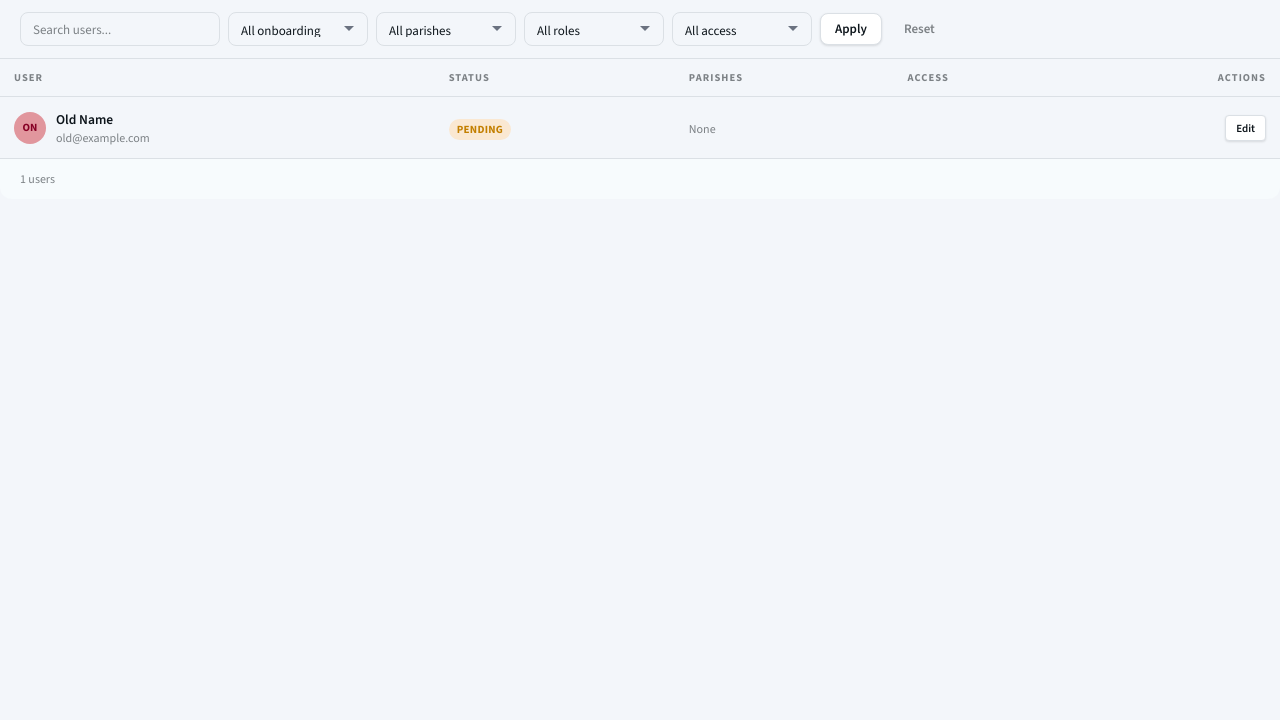
AdminUserDirectoryManager › reloads user data when access saving fails after a profile update
Click the button "Edit" at (1246, 128), box [1225,116,1266,142]
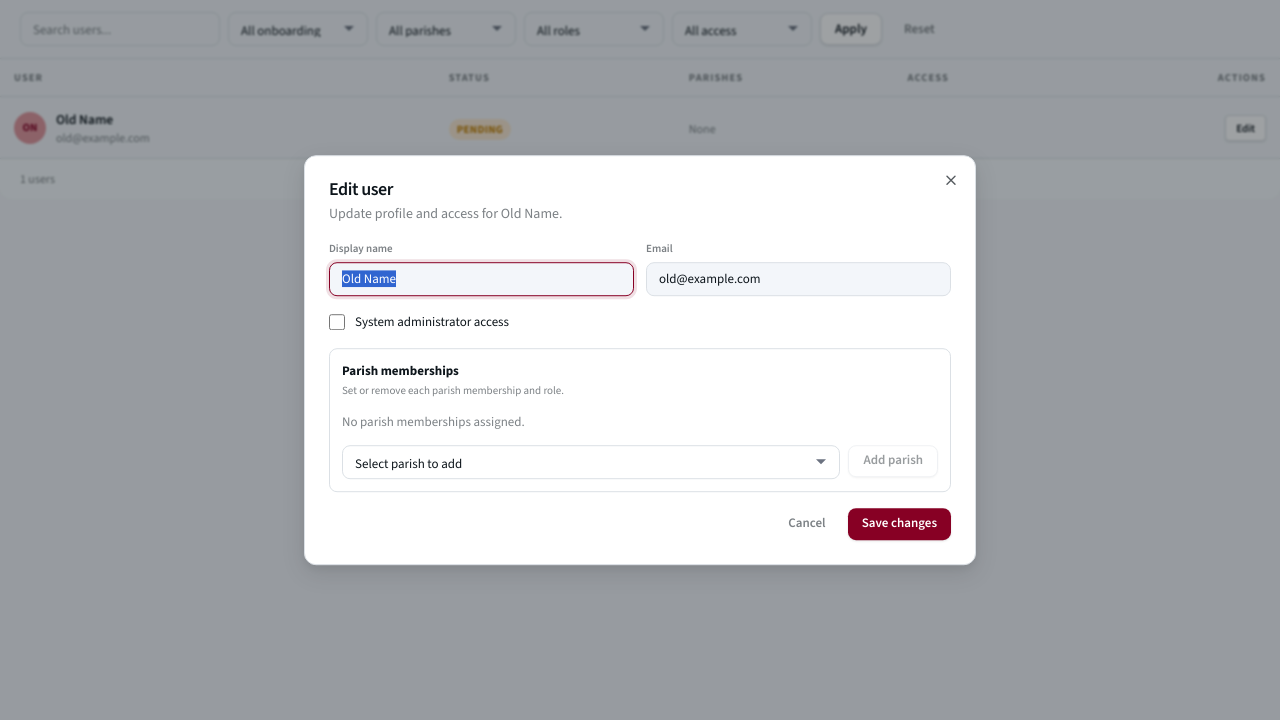
Replace the text in the field showing "Old Name" below "Display name" with "New Name" at (482, 279), box [329,262,634,296]
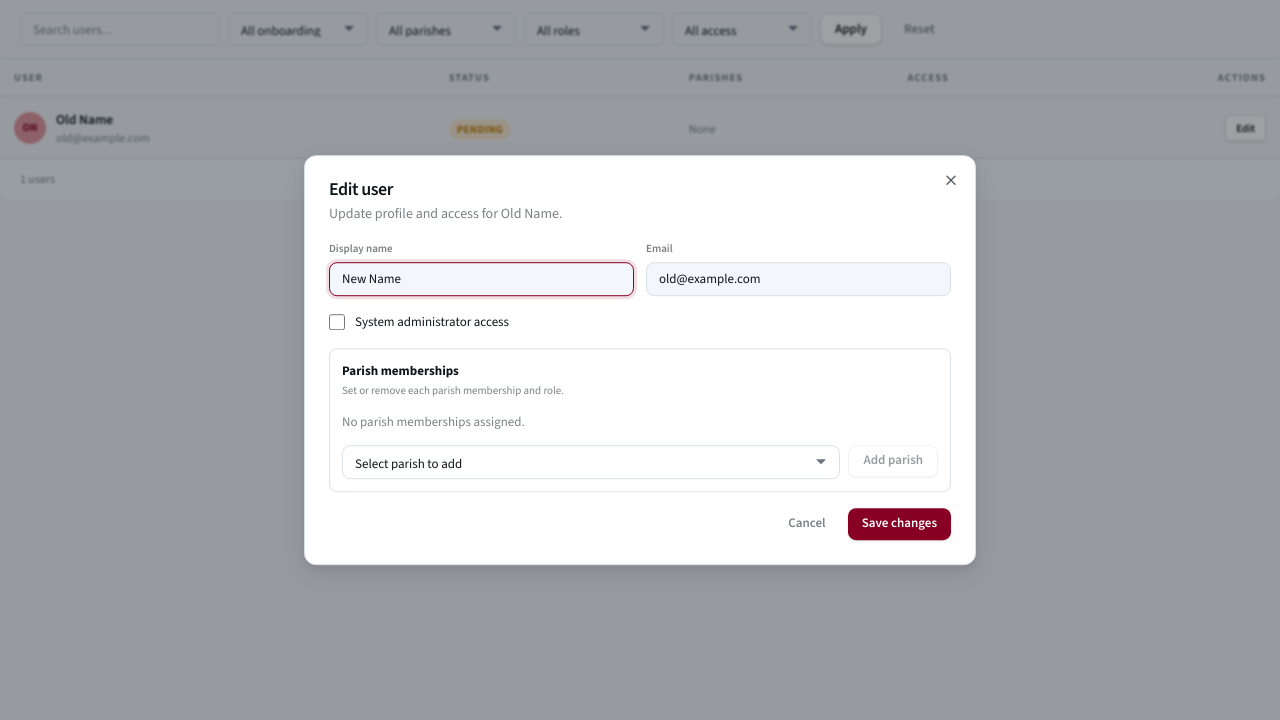
Replace the text in the field showing "old@example.com" below "Email" with "new@example.com" at (798, 279), box [646,262,951,296]
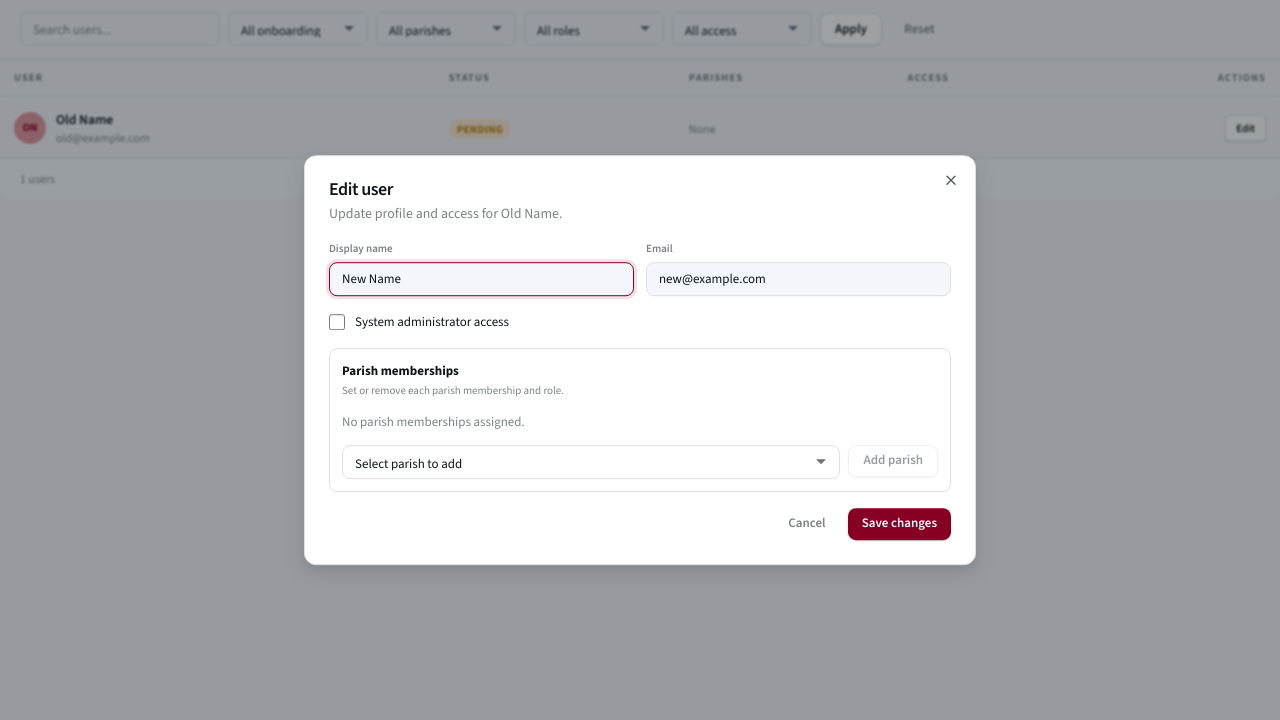
Select "St. Mark" in the dropdown showing "Select parish to add" at (591, 462), box [342,445,840,479]
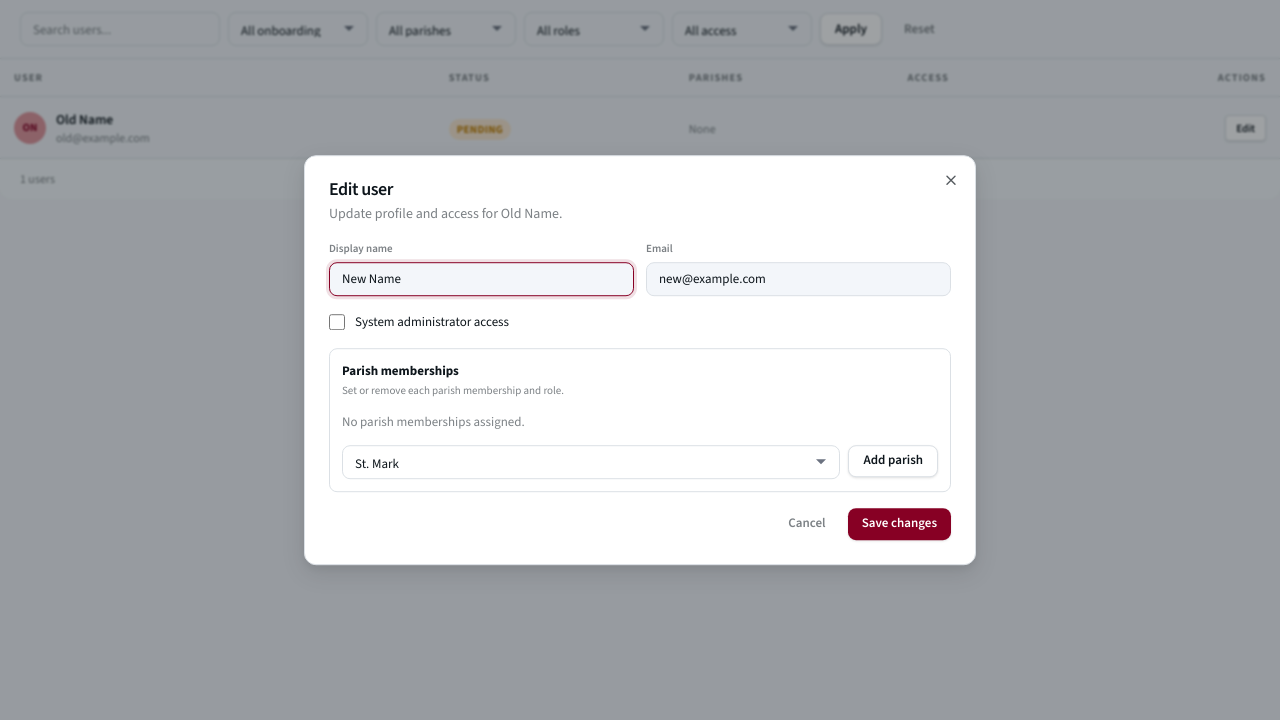
Click the button "Add parish" at (893, 461), box [848,445,938,477]
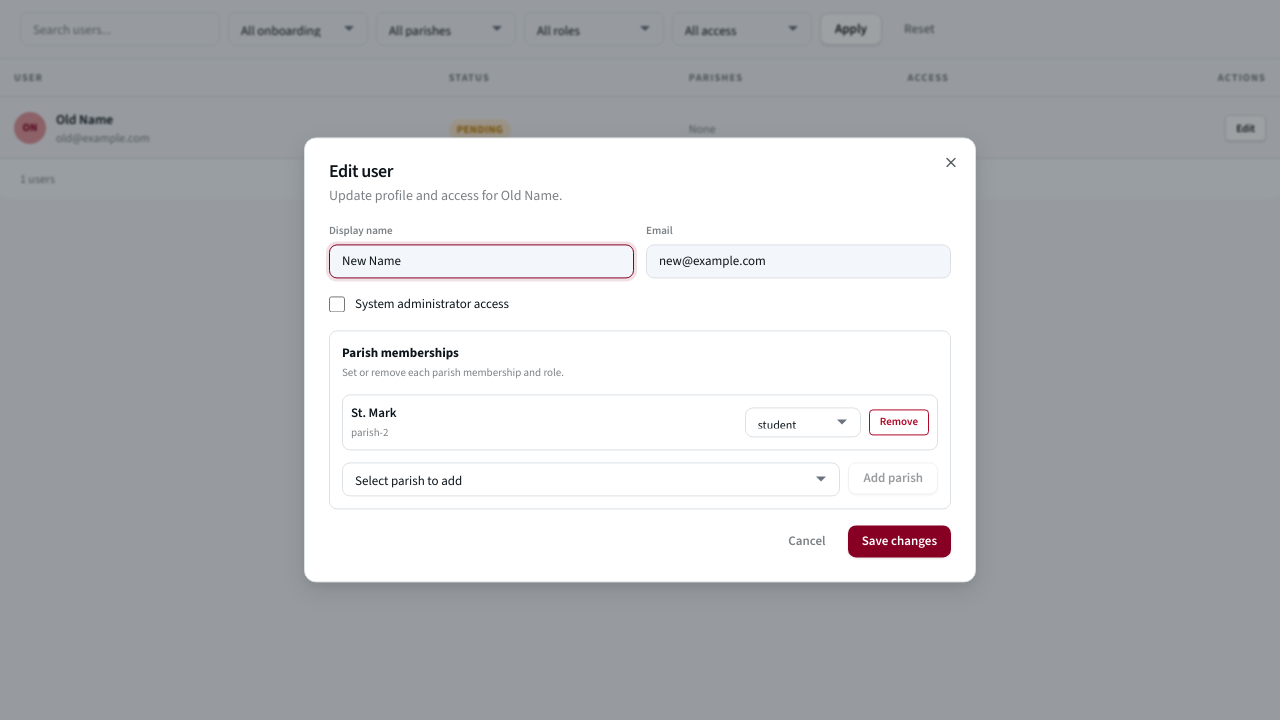
Click the button "Save changes" at (899, 542), box [848,526,951,558]
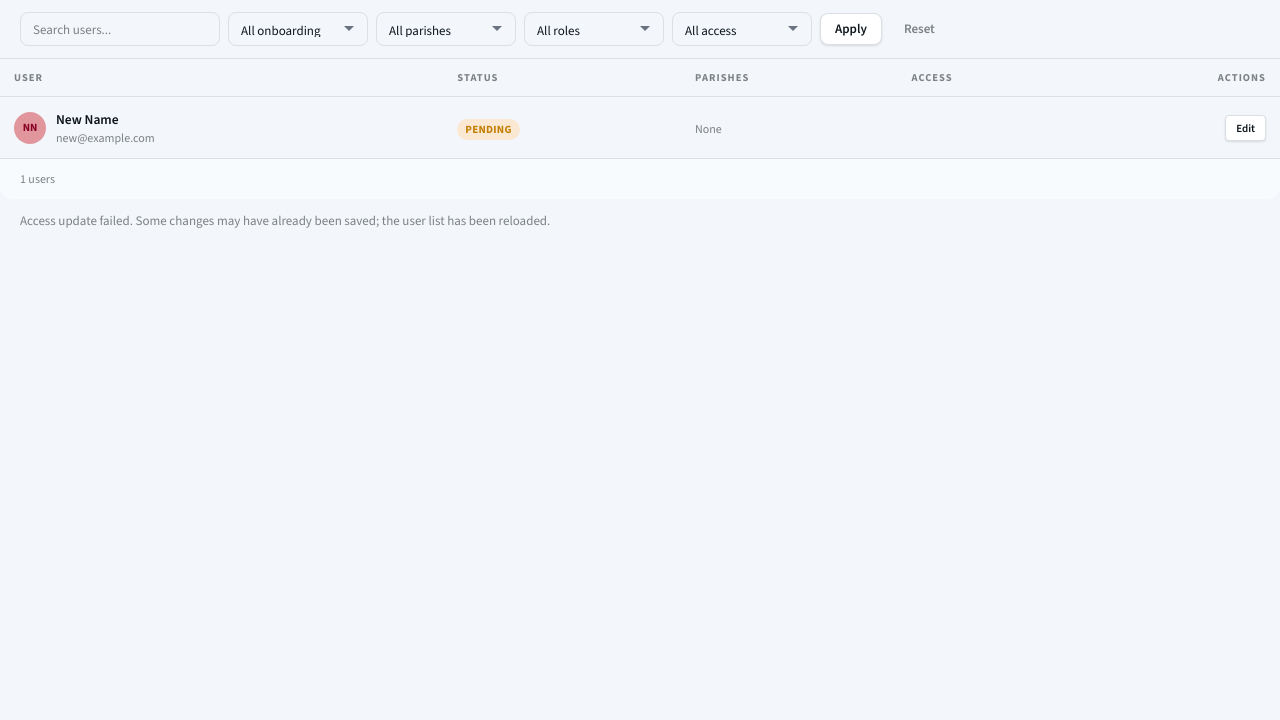
Now the text "New Name" is shown, box [56,110,119,128]
Now the dialog is gone
Now the text "Access update failed. Some changes may have already been saved; the user list has been reloaded." is shown, box [20,212,550,229]
